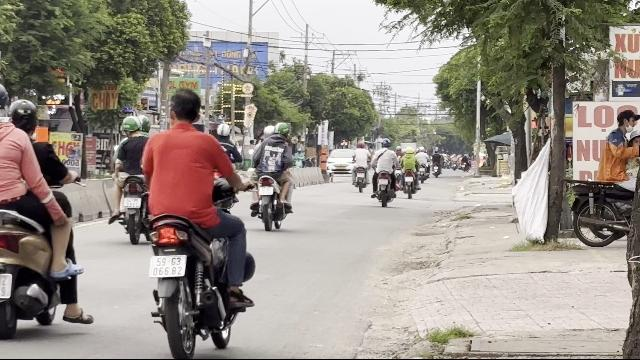helmet: (6, 98, 38, 134), (120, 115, 140, 136), (136, 114, 150, 134)
licenseplate: (149, 255, 185, 277), (123, 198, 141, 208)
motorcyclist: (138, 90, 258, 356), (0, 82, 88, 341), (106, 114, 154, 243)
nohelmet: (166, 89, 204, 127)
